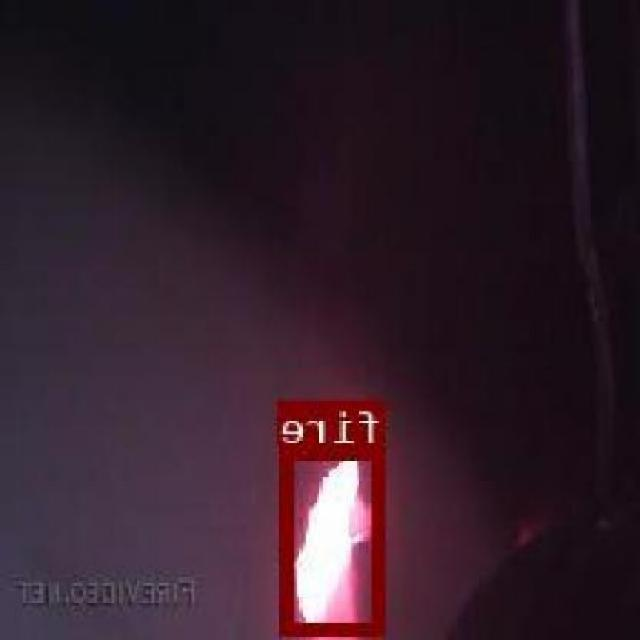Fire: (286, 445, 386, 633)
